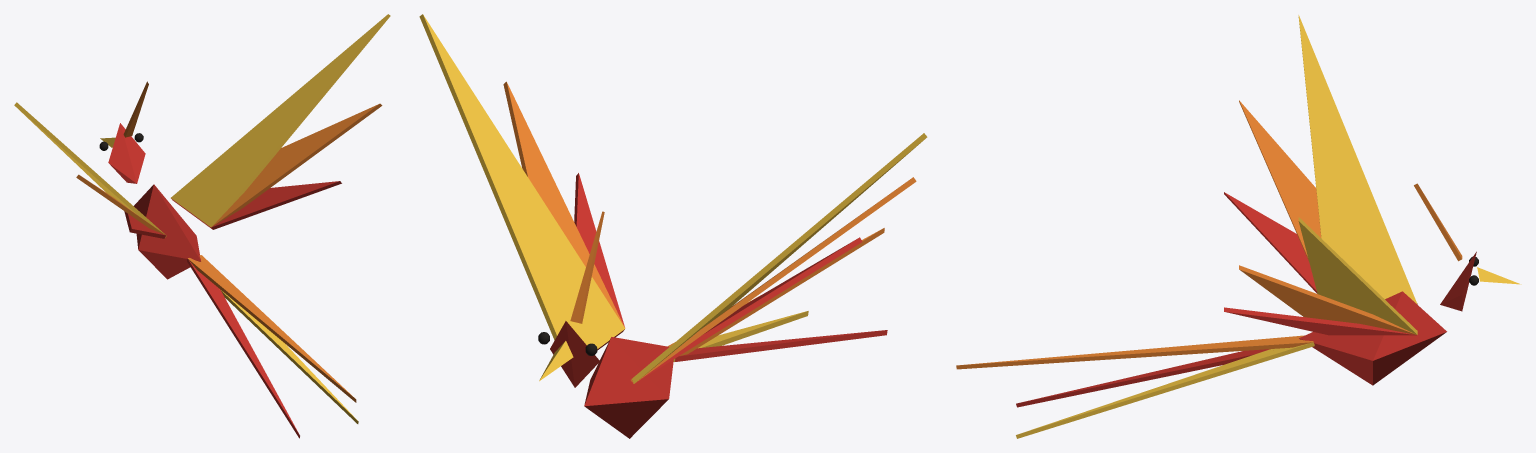
Rendered from perch_phoenix.glb.
3 renders of one model, left to right at view 1: azimuth 30°, elevation 25°; view 2: azimuth 150°, elevation 25°; view 3: azimuth 270°, elevation 25°, orthographic. The views are drawn at different scales.
Parts seen in each view (by area): view 1: wing_l, tail, body, wing_r, head; view 2: wing_l, wing_r, body, tail, head; view 3: wing_r, wing_l, tail, body, head.
Boxes of the visible parts, x1,y1,x2,y2 form: wing_l: (171, 14, 390, 229); tail: (187, 255, 358, 438); body: (134, 184, 200, 279); wing_r: (14, 102, 166, 238); head: (99, 81, 148, 183); wing_l: (419, 14, 625, 350); wing_r: (631, 133, 927, 383); body: (584, 337, 673, 438); tail: (667, 228, 887, 361); head: (538, 211, 604, 387); wing_r: (1224, 15, 1417, 304); wing_l: (1224, 217, 1417, 335); tail: (956, 335, 1314, 438); body: (1299, 291, 1446, 385); head: (1414, 183, 1521, 311).
Bounding box in the file's own units: 0.4833 × 0.3449 × 0.57.
